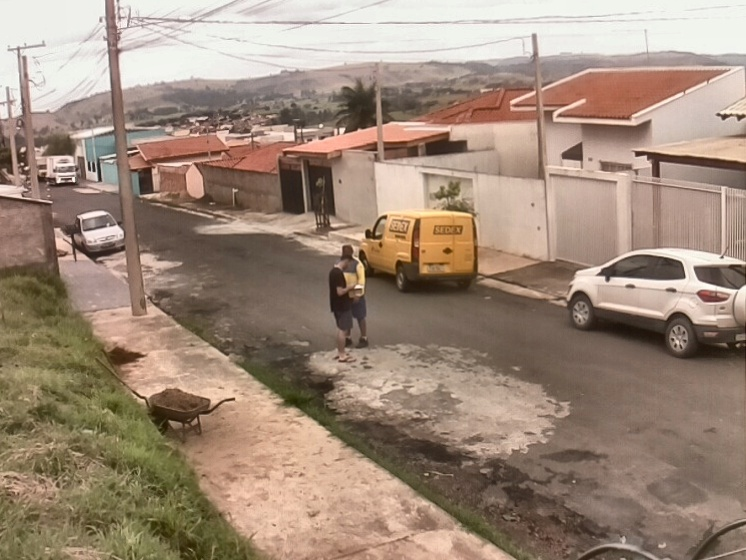person: (336, 243, 371, 351), (326, 254, 358, 365)
